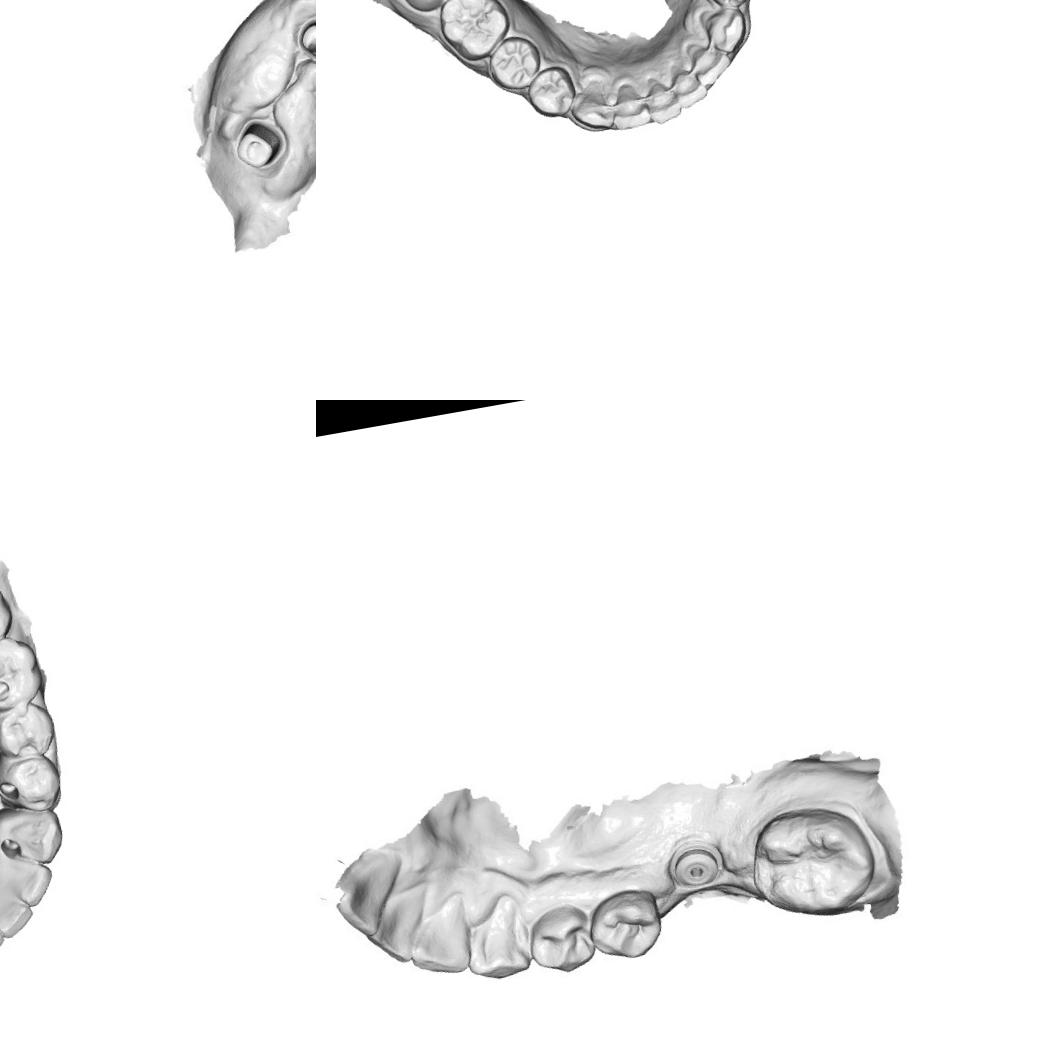abutment: (226, 108, 293, 180), (269, 0, 316, 81)
canine: (456, 888, 533, 984), (0, 794, 67, 872), (696, 1, 753, 58), (564, 76, 614, 138)
implant: (652, 818, 740, 907)
incisor: (324, 839, 408, 931), (402, 882, 480, 974), (363, 876, 429, 957), (0, 844, 59, 912), (684, 36, 736, 90), (605, 75, 652, 133), (0, 872, 38, 942), (639, 70, 683, 127), (666, 57, 710, 112)
molar: (740, 793, 888, 933), (431, 0, 517, 66), (0, 630, 48, 716), (0, 576, 19, 653)
premolar: (582, 878, 668, 971), (524, 898, 598, 976), (0, 747, 68, 819), (483, 30, 547, 95), (0, 700, 61, 761), (522, 60, 579, 122), (695, 0, 759, 12)
